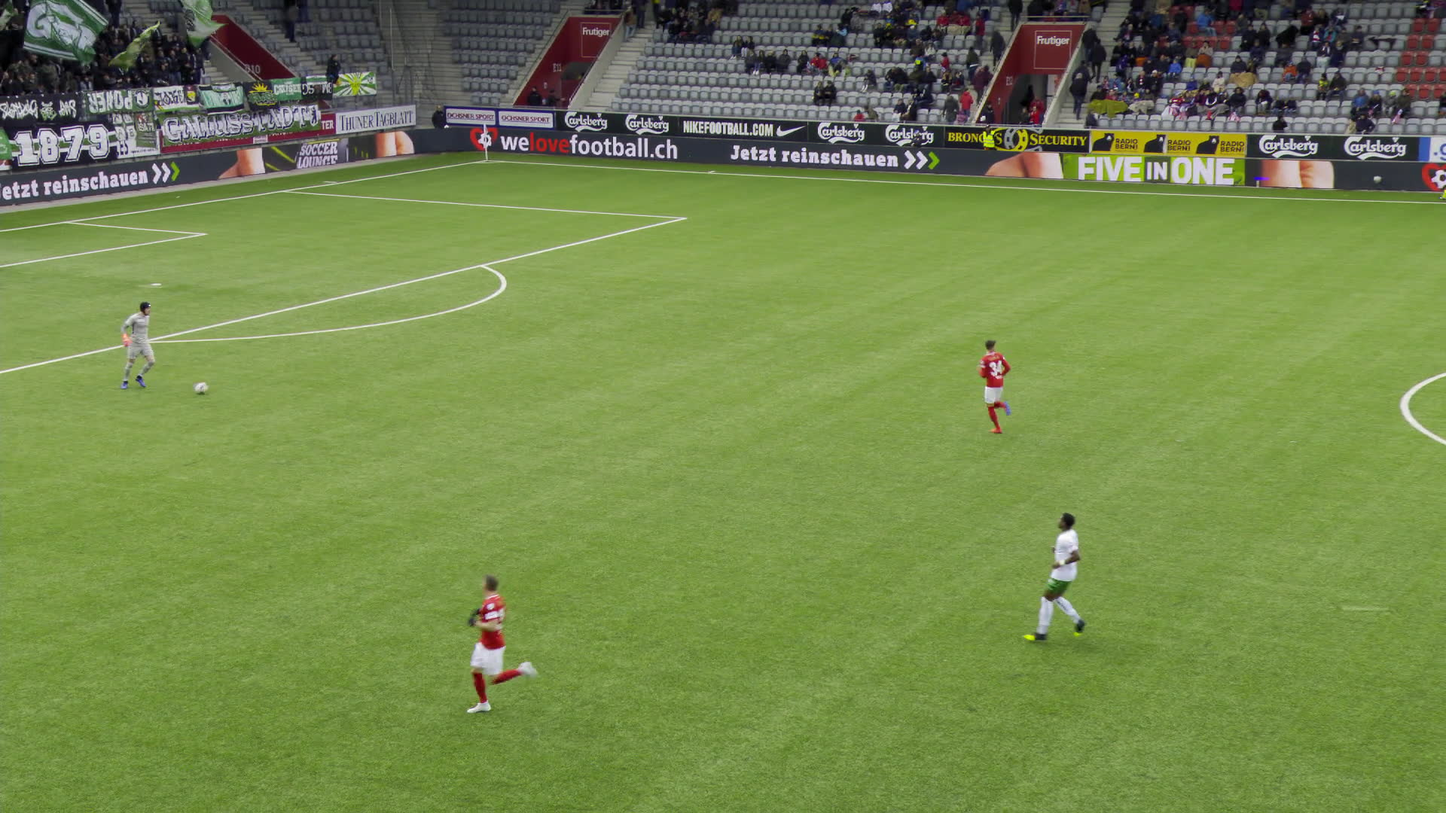ball: (186, 375, 203, 392)
player: (466, 569, 526, 710), (1027, 514, 1086, 645), (975, 334, 1014, 436), (113, 301, 153, 390)
